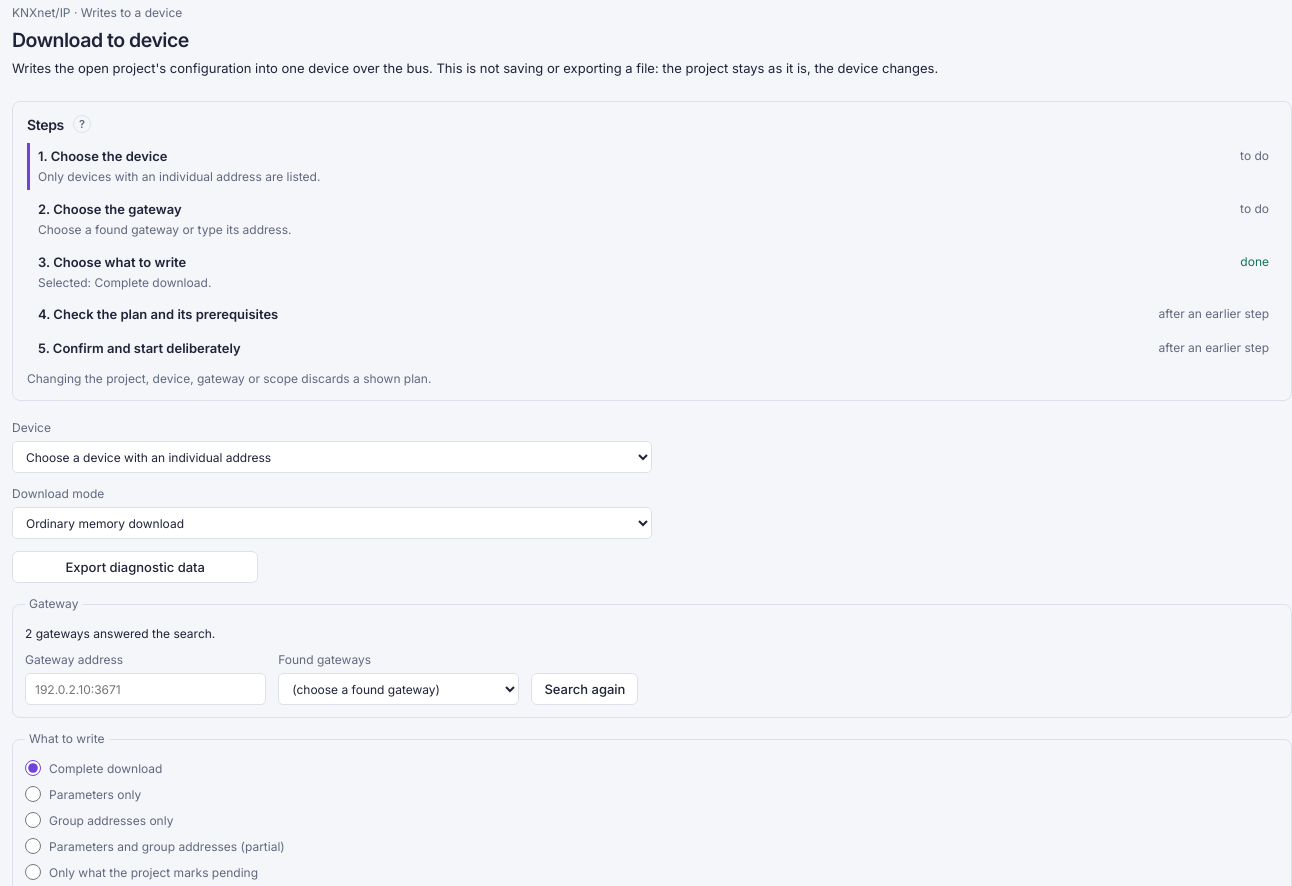
Scenario: keeps a chosen gateway that a later search no longer lists, and marks it
This screenshot has width=1292, height=886.
Select "A — 192.0.2.10:3671 · 1.1.250" in the dropdown labelled "Found gateways" at (399, 689), box [278, 673, 519, 705]
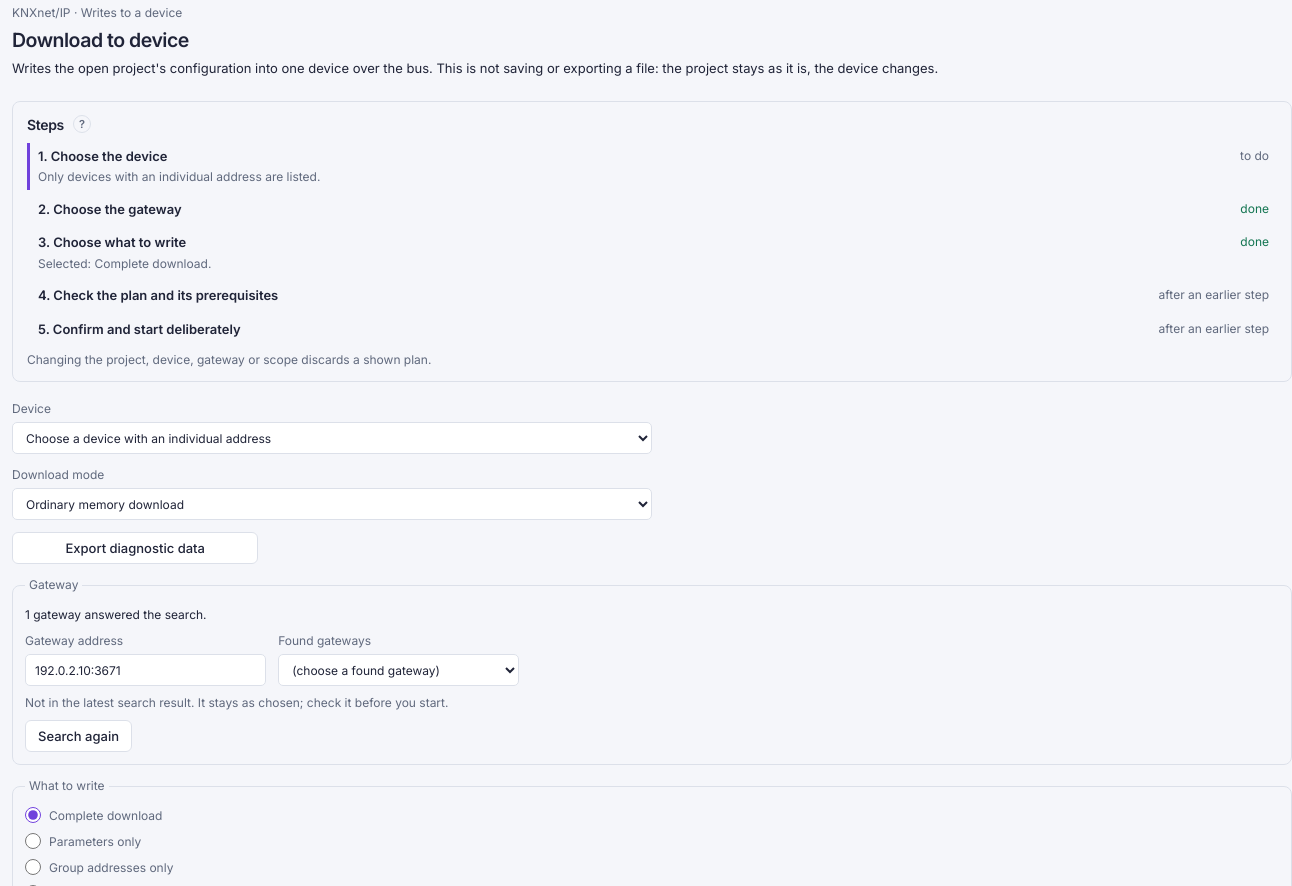
expect the field labelled "Gateway address" holds "192.0.2.10:3671": met, box [25, 654, 266, 686]
expect the text "Not in the latest search result. It stays as chosen; check it before you start." is shown: met, box [25, 695, 448, 710]
